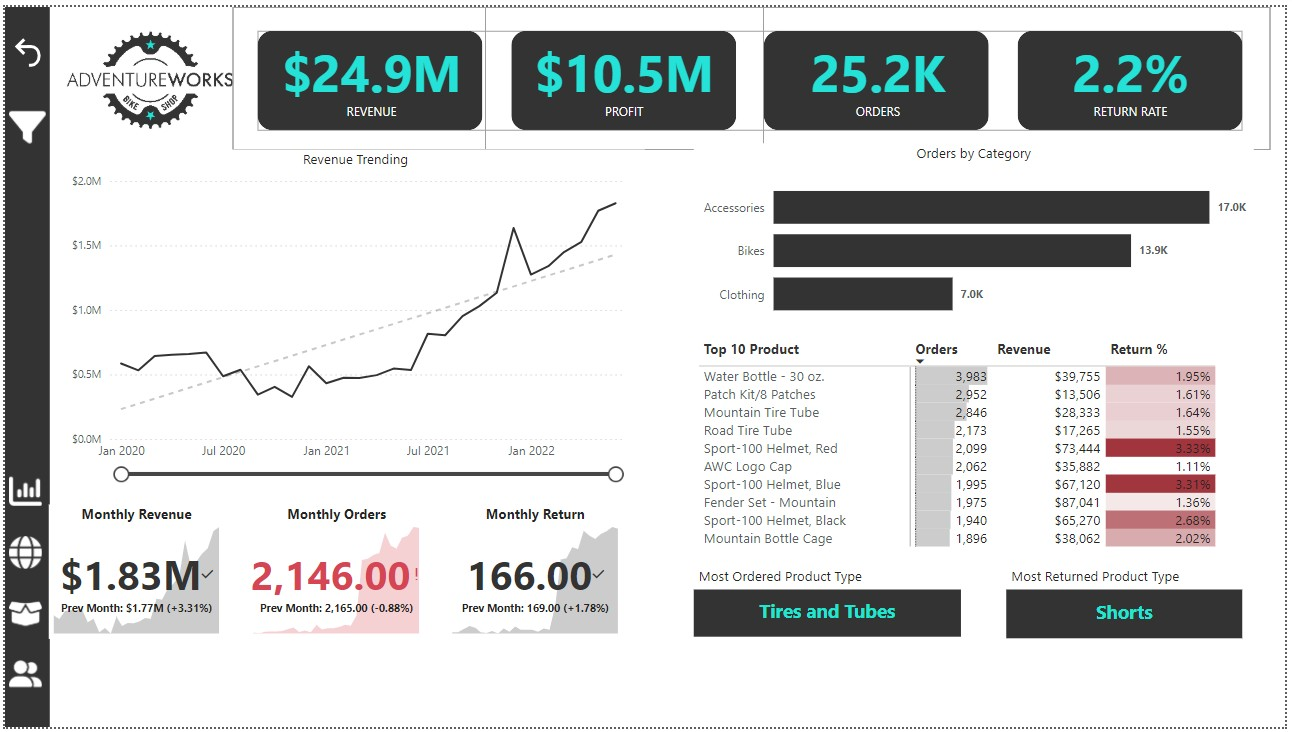

This screenshot's page, from the dashboard's own definition file:
{"tool":"powerbi","page":{"name":"Exec Dashboard","canvas":[1280,720],"ordinal":0},"visuals":[{"type":"card","fields":{"Values":["Measure Table.Total Revenue"]},"box":[227.6,0,278.6,143.1],"z":0,"group":"g2"},{"type":"image","title":"AW Logo","box":[38.6,10,214,125.6],"z":0},{"type":"group","id":"g1","title":"KPI Backgrounds","box":[252.6,24.2,985.2,99.5],"z":0,"group":"g3"},{"type":"shape","box":[252.6,24.2,225.2,99.5],"z":0,"group":"g1"},{"type":"actionButton","box":[0,464,44.8,41.1],"z":0,"group":"g4"},{"type":"shape","title":"Left Nav Background","box":[0,0,44.8,720.3],"z":1000},{"type":"group","id":"g2","title":"KPI Values","box":[227.6,0,1037.5,143.1],"z":1000,"group":"g3"},{"type":"card","fields":{"Values":["Measure Table.Total Profit"]},"box":[480.5,0,278.6,143.1],"z":1000,"group":"g2"},{"type":"shape","box":[506,24.2,225.2,99.5],"z":1000,"group":"g1"},{"type":"actionButton","box":[0,525,44.8,41.1],"z":1000,"group":"g4"},{"type":"group","id":"g3","title":"KPIs","box":[227.6,0,1037.5,143.1],"z":2000},{"type":"card","fields":{"Values":["Measure Table.Total Orders"]},"box":[733.5,0,278.6,143.1],"z":2000,"group":"g2"},{"type":"shape","box":[759.3,24.2,225.2,99.5],"z":2000,"group":"g1"},{"type":"actionButton","box":[0,585.9,44.8,41.1],"z":2000,"group":"g4"},{"type":"card","fields":{"Values":["Measure Table.Return Rate"]},"box":[986.4,0,278.6,143.1],"z":3000,"group":"g2"},{"type":"shape","box":[1012.7,24.2,225.2,99.5],"z":3000,"group":"g1"},{"type":"lineChart","title":"Revenue Trending","fields":{"Y":["Measure Table.Total Revenue"],"Category":["Calendar Lookup.Year","Calendar Lookup.Start of Quarter","Calendar Lookup.Start of Month"]},"box":[61.4,142.9,578.6,335.7],"z":3000},{"type":"actionButton","box":[0,646.9,44.8,41.1],"z":3000,"group":"g4"},{"type":"kpi","title":"Monthly Revenue","fields":{"Indicator":["Measure Table.Total Revenue"],"TrendLine":["Calendar Lookup.Start of Month"],"Goal":["Measure Table.Previous Month Revenue"]},"box":[44.3,497.1,175.7,134.3],"z":4000},{"type":"kpi","title":"Monthly Orders","fields":{"TrendLine":["Calendar Lookup.Start of Month"],"Indicator":["Measure Table.Total Orders"],"Goal":["Measure Table.Previous Month Orders"]},"box":[243.6,497.1,175.7,134.3],"z":5000},{"type":"kpi","title":"Monthly Return","fields":{"TrendLine":["Calendar Lookup.Start of Month"],"Indicator":["Measure Table.Total Returns"],"Goal":["Measure Table.Previous Month Return"]},"box":[442.9,497.1,175.7,134.3],"z":6000},{"type":"barChart","title":"Orders by Category","fields":{"Y":["Measure Table.Total Orders"],"Category":["Product Categories Lookup.CategoryName"]},"box":[688.6,135.7,560,191.4],"z":7000},{"type":"pivotTable","fields":{"Rows":["Product Lookup.ProductName"],"Values":["Measure Table.Total Orders","Measure Table.Total Revenue","Measure Table.Return Rate"]},"box":[688.8,327.5,560,218.8],"z":8000},{"type":"card","fields":{"Values":["Min(Product Subcategories Lookup.SubcategoryName)"]},"box":[689.2,582.2,267.5,47.3],"z":9000},{"type":"textbox","box":[689.2,554.8,204,27.4],"z":10000},{"type":"card","fields":{"Values":["Min(Product Subcategories Lookup.SubcategoryName)"]},"box":[1001.4,582.2,236.4,48.5],"z":11000},{"type":"textbox","box":[1001.4,554.8,185.3,27.4],"z":12000},{"type":"actionButton","box":[3.7,23.6,38.6,43.5],"z":13000},{"type":"group","id":"g4","title":"Navigation","box":[0,464,44.8,223.9],"z":14000},{"type":"actionButton","box":[0,95.8,44.8,47.3],"z":14500}]}

Visuals, with their boxes on the page's 1280x720 design canvas (x1, y1, x2, y2). These are canvas units, not pixel positions in the 1292x732 screenshot, which may show the page scaled, cropped or inside an application window:
card - Measure Table.Total Revenue: (228, 0, 506, 143)
"AW Logo" image: (39, 10, 253, 136)
"KPI Backgrounds" group: (253, 24, 1238, 124)
shape: (253, 24, 478, 124)
actionButton: (0, 464, 45, 505)
"Left Nav Background" shape: (0, 0, 45, 720)
"KPI Values" group: (228, 0, 1265, 143)
card - Measure Table.Total Profit: (480, 0, 759, 143)
shape: (506, 24, 731, 124)
actionButton: (0, 525, 45, 566)
"KPIs" group: (228, 0, 1265, 143)
card - Measure Table.Total Orders: (734, 0, 1012, 143)
shape: (759, 24, 984, 124)
actionButton: (0, 586, 45, 627)
card - Measure Table.Return Rate: (986, 0, 1265, 143)
shape: (1013, 24, 1238, 124)
"Revenue Trending" lineChart: (61, 143, 640, 479)
actionButton: (0, 647, 45, 688)
"Monthly Revenue" kpi: (44, 497, 220, 631)
"Monthly Orders" kpi: (244, 497, 419, 631)
"Monthly Return" kpi: (443, 497, 619, 631)
"Orders by Category" barChart: (689, 136, 1249, 327)
pivotTable - Product Lookup.ProductName x Measure Table.Total Orders: (689, 328, 1249, 546)
card - Min(Product Subcategories Lookup.SubcategoryName): (689, 582, 957, 630)
textbox: (689, 555, 893, 582)
card - Min(Product Subcategories Lookup.SubcategoryName): (1001, 582, 1238, 631)
textbox: (1001, 555, 1187, 582)
actionButton: (4, 24, 42, 67)
"Navigation" group: (0, 464, 45, 688)
actionButton: (0, 96, 45, 143)
